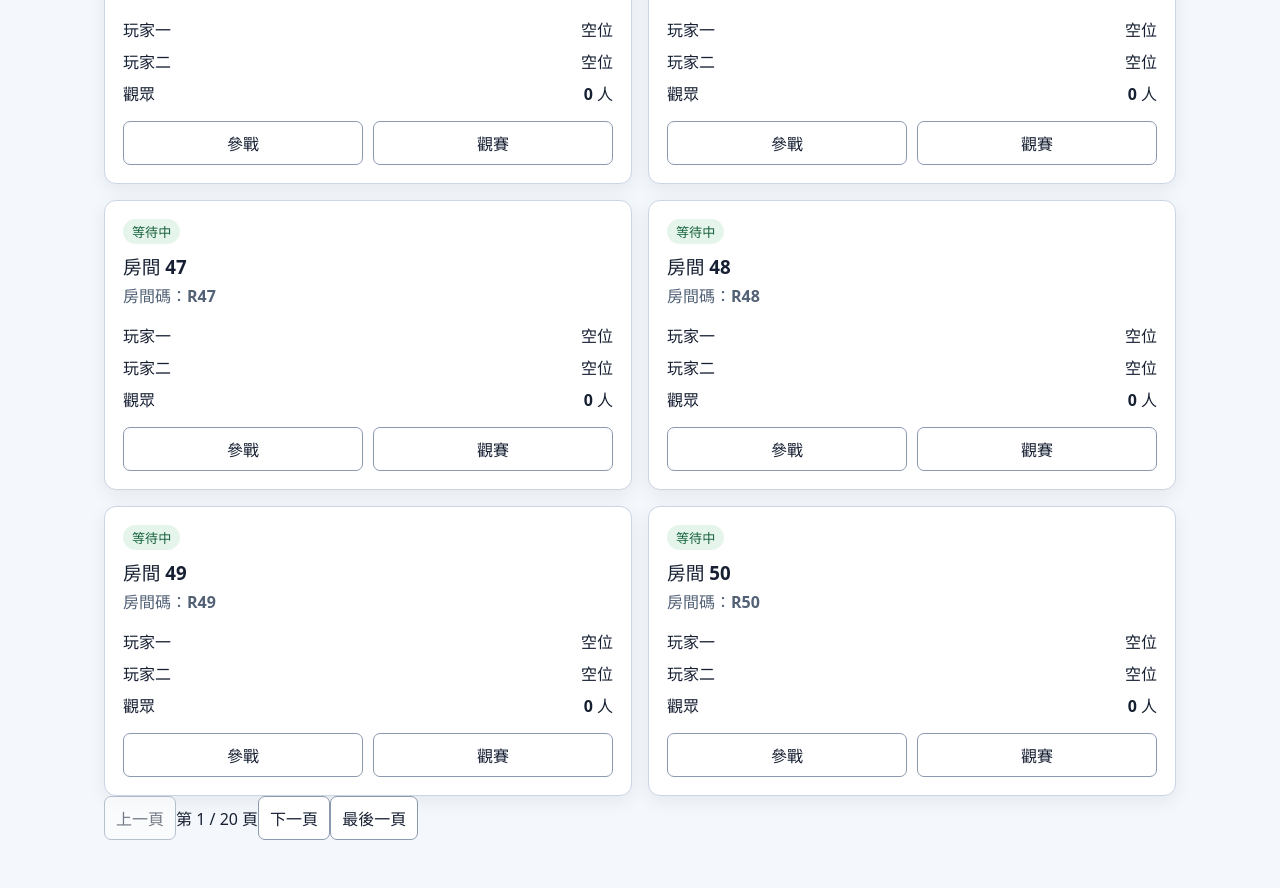
Test: LobbyPage › 1000房間分頁初始DOM有界且最後房可達，沒有排行榜
(page scrolled)
Click the button "最後一頁" at (374, 818), box [330, 796, 418, 840]
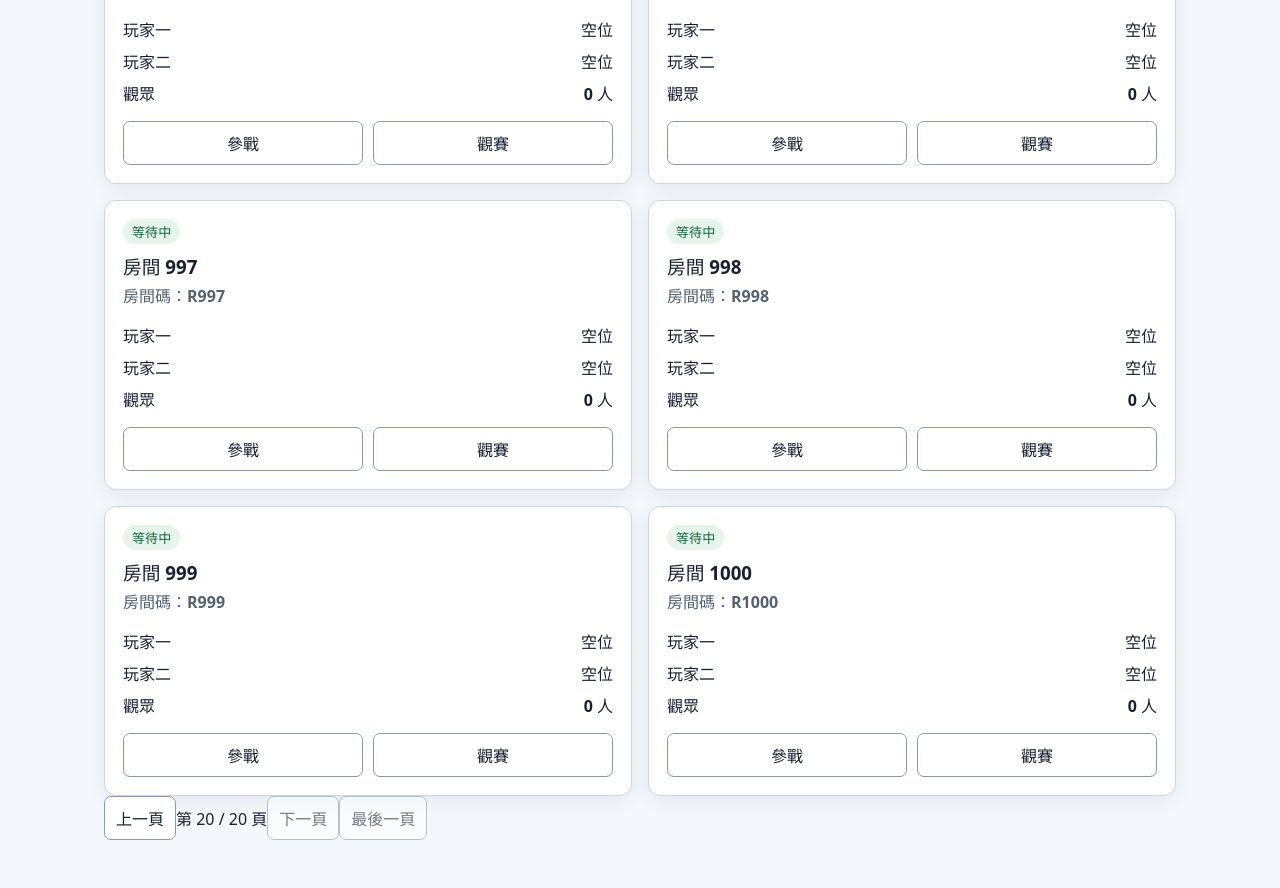
Expected: the heading "房間 1000" is shown, [667, 560, 752, 584]
